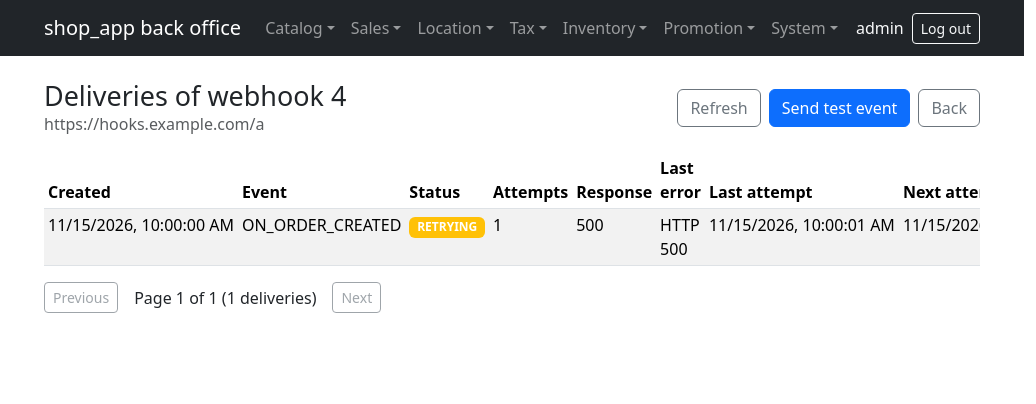
Scenario: Webhooks › shows the delivery log and queues a test event
The width and height of the screenshot is (1036, 404).
Expected: the text "RETRYING" is shown, [409,217,485,238]
Expected: the text "500" is shown, [572,209,656,266]
Click the button "Send test event". click: (840, 108)
box: [769,89,910,127]
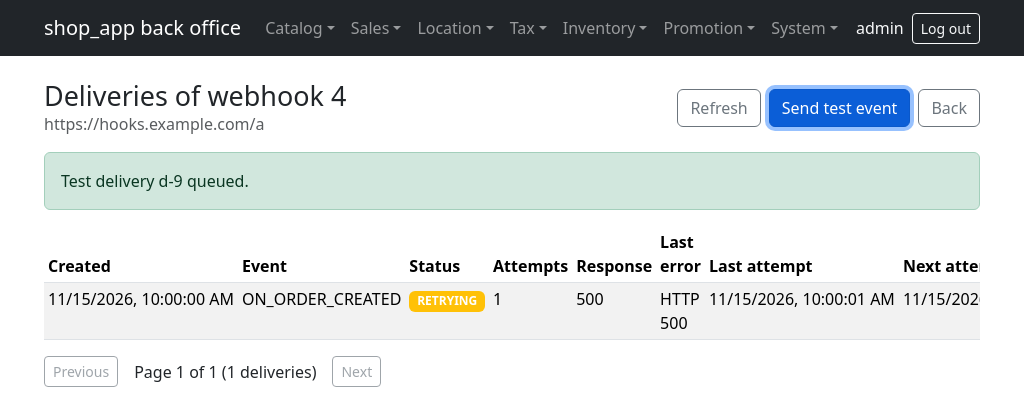
Now the text "Test delivery d-9 queued." is shown, box [44,152,980,210]
